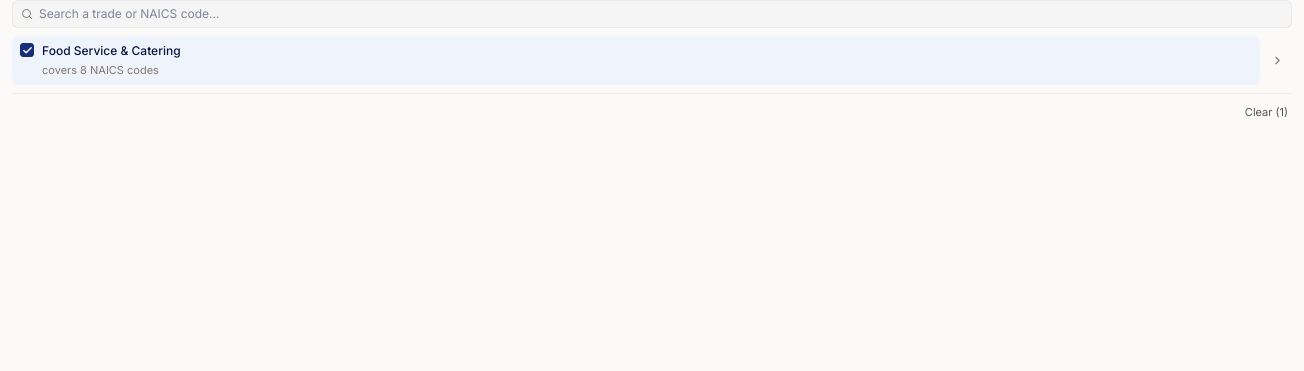
Test: WorkPicker — NAICS descriptions › shows the description the taxonomy resolves for a code
The width and height of the screenshot is (1304, 371).
Click the button named "Fine-tune codes" at (1277, 60), box left=1262, top=36, right=1292, bottom=84
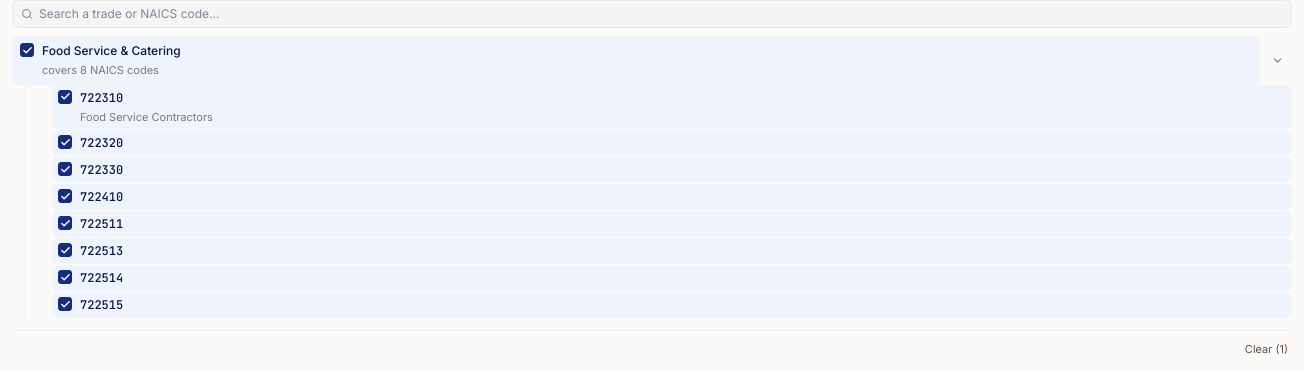
Expected: the text "Food Service Contractors" is shown, left=80, top=110, right=213, bottom=124
Expected: the text "722310" is shown, left=80, top=88, right=123, bottom=106
